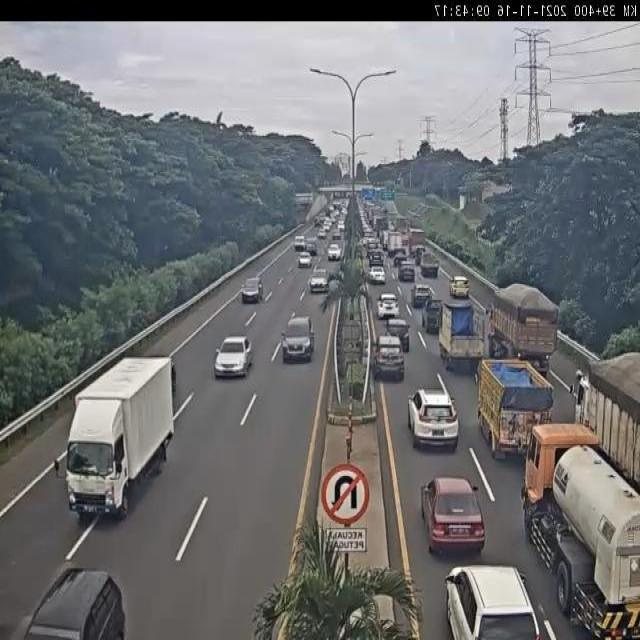Car: (21, 568, 126, 637), (445, 566, 542, 638), (422, 477, 487, 551), (410, 390, 460, 450), (213, 336, 252, 379), (281, 317, 314, 363), (372, 338, 406, 381), (386, 318, 411, 351), (242, 277, 264, 303), (377, 295, 399, 320), (412, 285, 431, 308), (449, 276, 468, 298), (309, 273, 329, 293), (398, 260, 416, 281), (368, 266, 386, 283), (327, 243, 341, 260), (298, 253, 312, 268), (315, 267, 328, 281), (294, 237, 306, 251), (377, 300, 385, 319)
Truck: (524, 424, 640, 640), (63, 357, 174, 520), (574, 348, 640, 477), (478, 360, 553, 453), (485, 283, 560, 365), (441, 300, 486, 370)
